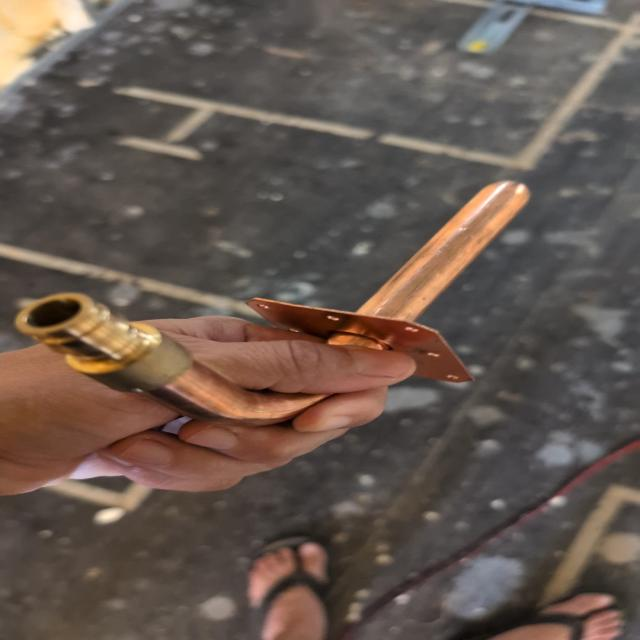wall_flange: (12, 176, 547, 427)
